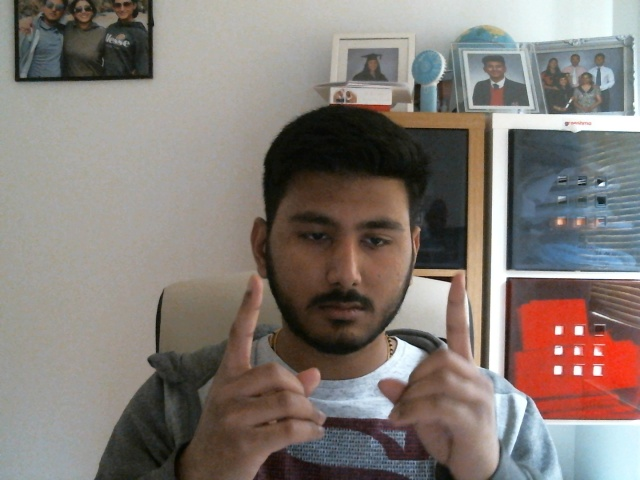meet: (222, 273, 474, 431)
